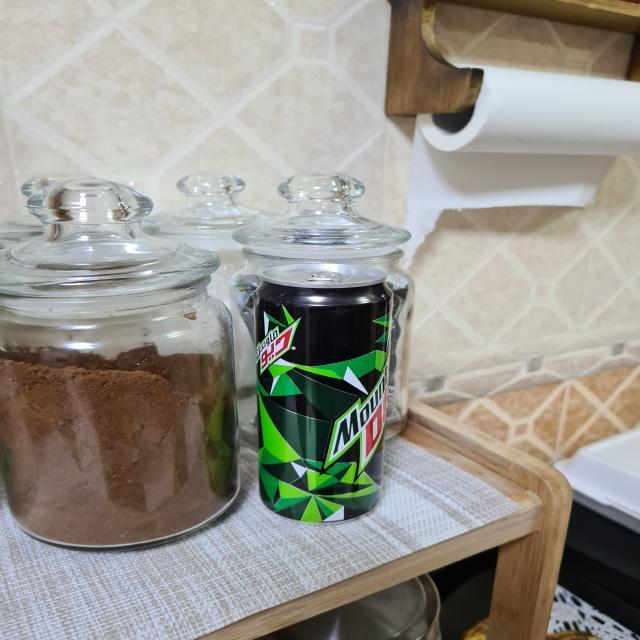metal-can: (254, 264, 397, 526)
